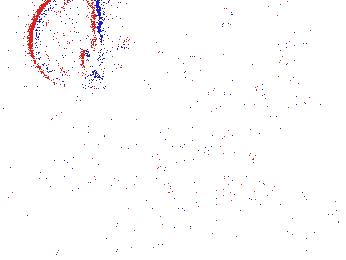moon jellyfish: (140, 153, 263, 211), (30, 1, 102, 88), (253, 44, 346, 111), (150, 1, 233, 71), (204, 88, 255, 169)
